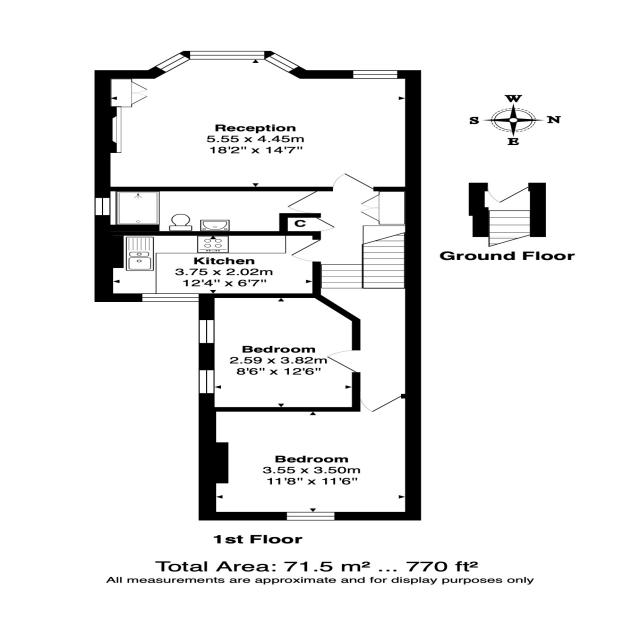DOOR: (358, 393, 403, 413), (284, 190, 321, 214), (325, 349, 361, 373), (289, 239, 321, 263)
ROOM: (94, 51, 421, 192), (198, 393, 422, 521), (198, 293, 361, 412), (94, 231, 321, 302)
WINDOW: (154, 50, 300, 73), (331, 173, 375, 192), (141, 293, 199, 302), (285, 511, 336, 521), (352, 70, 398, 79), (198, 370, 215, 394), (198, 320, 215, 343), (94, 197, 111, 216)
